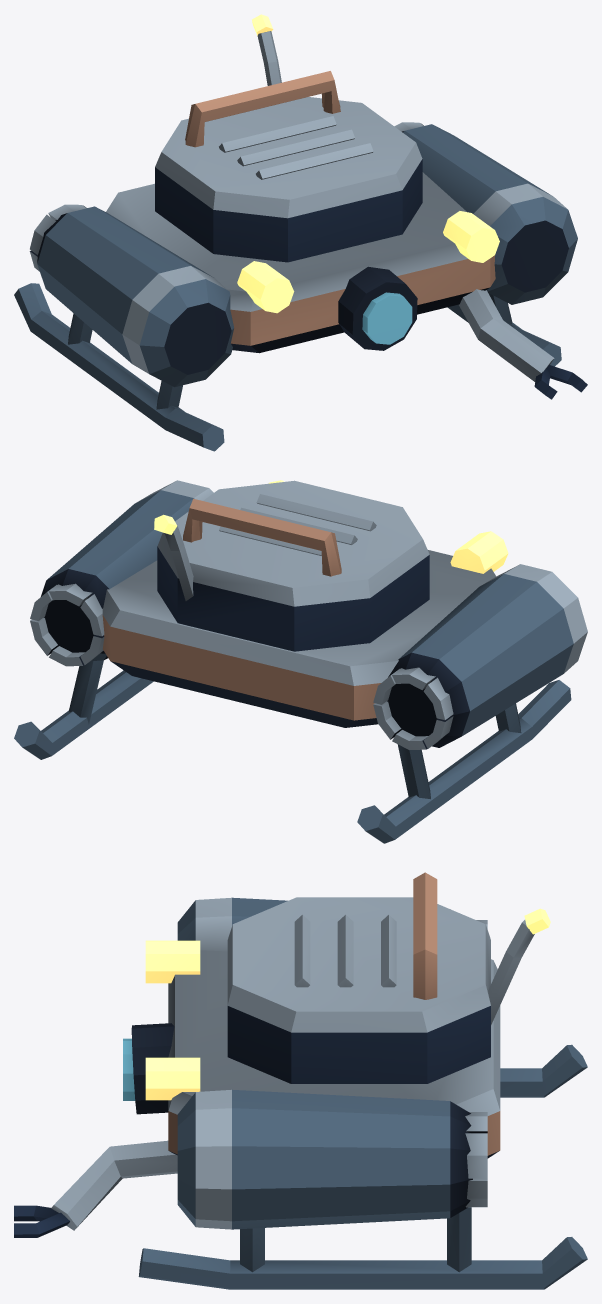
The model's file is abyss-survey-rov.glb.
The picture shows the model from 3 angles, top to bottom: view 1: azimuth 30°, elevation 25°; view 2: azimuth 150°, elevation 25°; view 3: azimuth 270°, elevation 25°; orthographic projection. The views are drawn at different scales.
Parts seen in each view (by area): view 1: abyss-survey-rov; view 2: abyss-survey-rov; view 3: abyss-survey-rov.
Part boxes in pixels (x1,y1,x2,y2): abyss-survey-rov: (14,14,587,451); abyss-survey-rov: (14,480,587,843); abyss-survey-rov: (14,872,587,1289).
Bounding box in the file's own units: 2.62 × 1.52 × 2.53.
